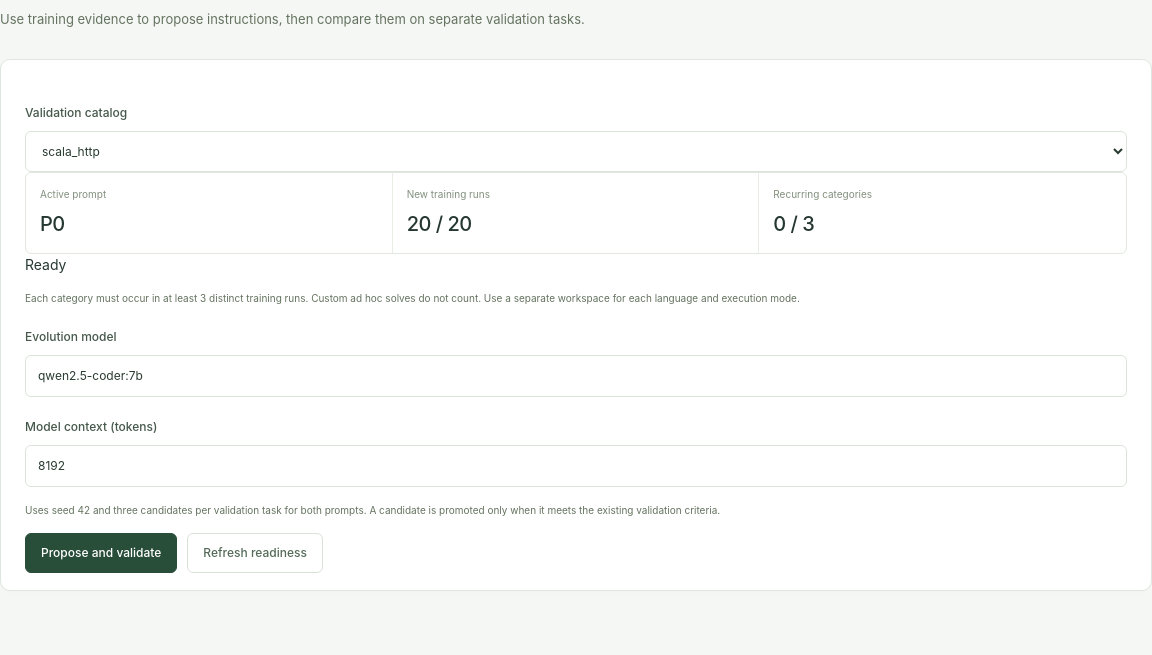
Test: eligible proposal submits matching validation budgets and shows its result
Expected: the text "Ready" is shown, [25,256,66,273]
Click the button "Propose and validate" at (101, 553), box [25,533,177,573]
(page scrolled)
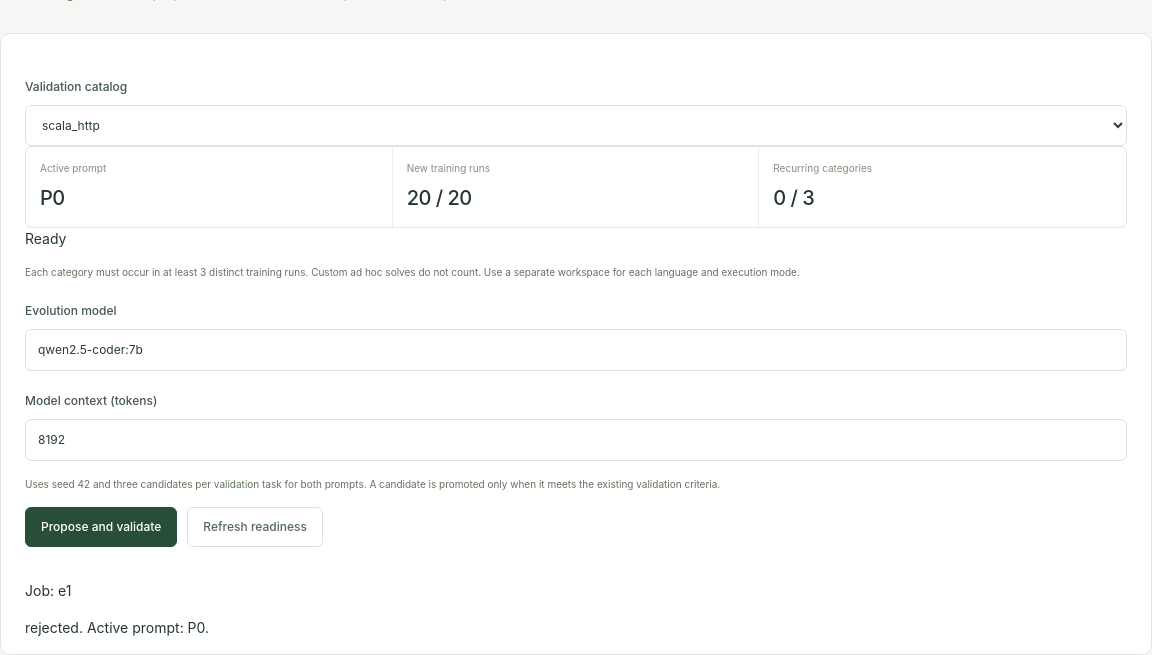
Result: the text "rejected. Active prompt: P0." is shown at [25,619,209,636]
